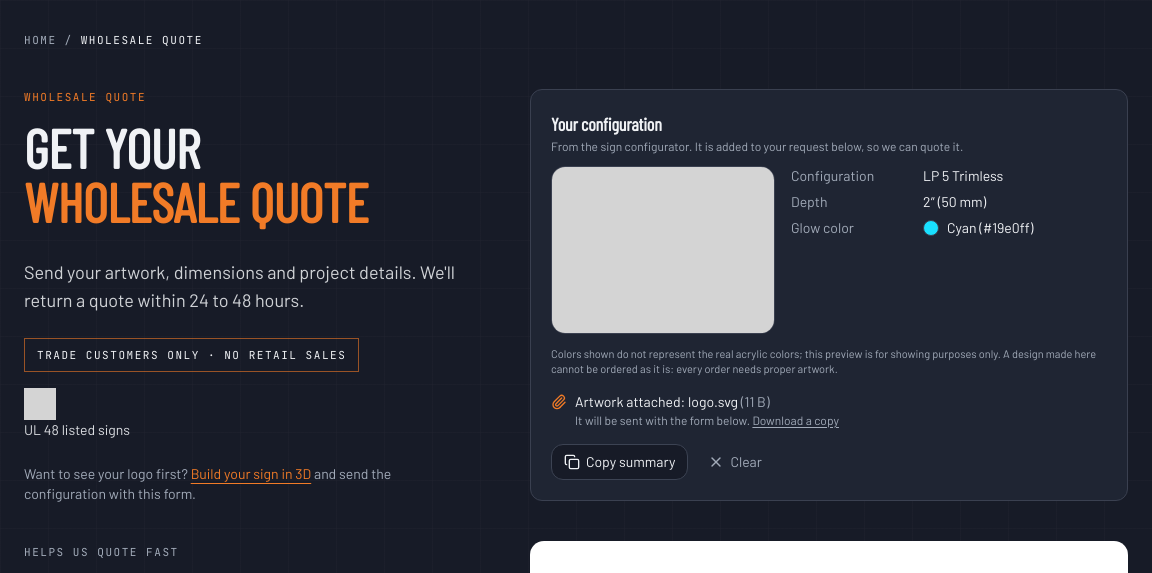
Test: ContactPage artwork file › Clear takes the file back out of the form and out of storage
Click the button "Clear" at [735, 462], box left=696, top=444, right=774, bottom=480
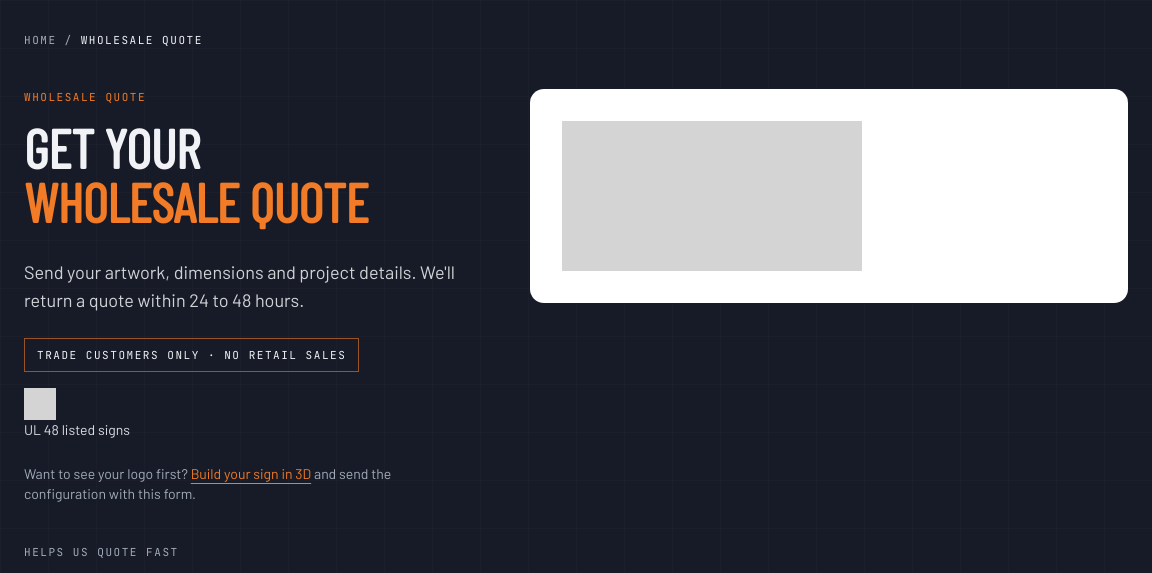
Expected: the text "Artwork attached" is gone
